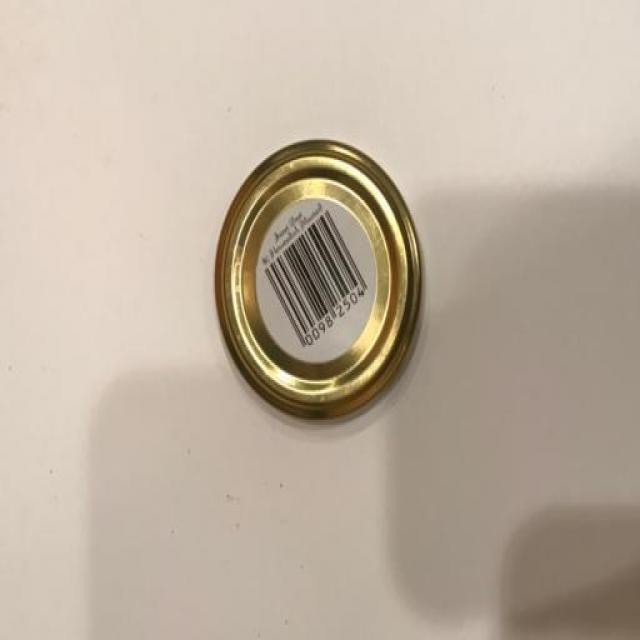metel: (193, 111, 528, 568)
